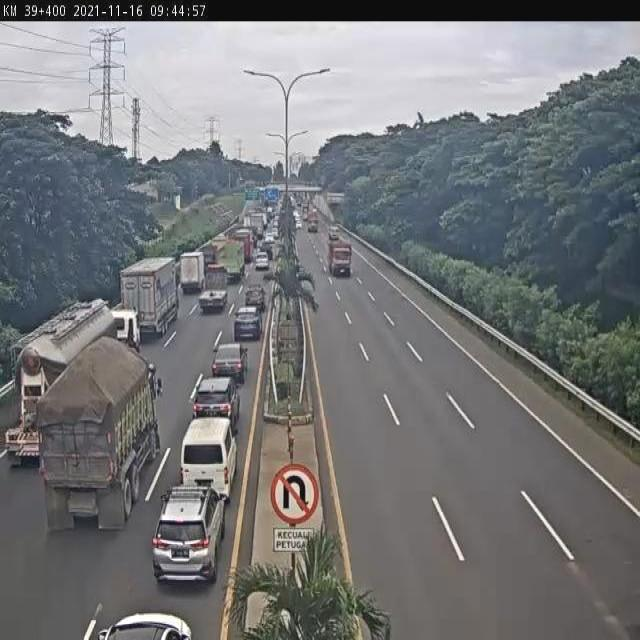Car: (151, 484, 227, 588), (192, 375, 241, 433), (92, 610, 193, 638), (211, 343, 249, 386), (232, 305, 262, 342), (244, 282, 267, 312), (254, 252, 269, 270), (264, 232, 275, 245), (295, 220, 302, 230)
Truck: (34, 333, 164, 535), (4, 297, 143, 471), (119, 256, 180, 338), (197, 263, 229, 313), (212, 240, 246, 286), (179, 251, 206, 294), (328, 238, 352, 279), (199, 242, 217, 272), (250, 211, 265, 237), (306, 210, 320, 233), (327, 225, 340, 241), (301, 202, 310, 222), (243, 215, 251, 227)
Van: (179, 415, 237, 504)
